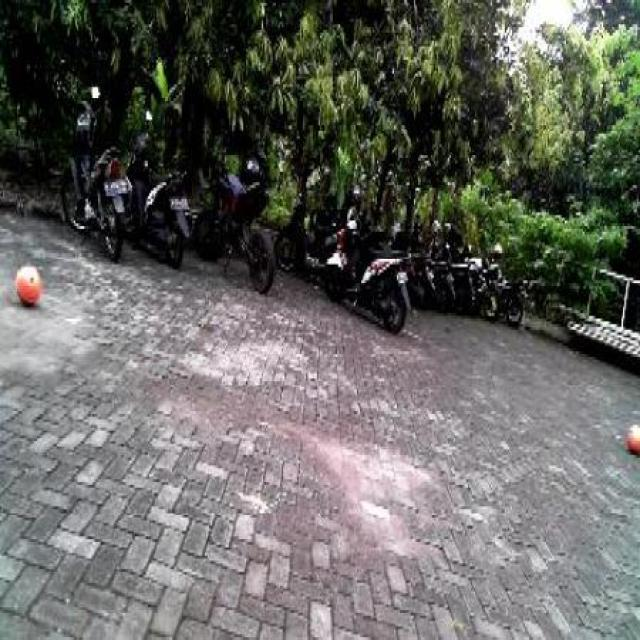buoy: (10, 250, 44, 313), (623, 417, 639, 458)
